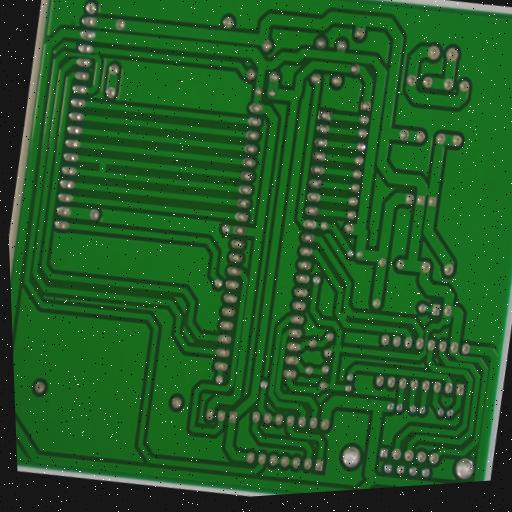short_circuit: (334, 300, 357, 326), (90, 154, 112, 180), (418, 179, 437, 202)
